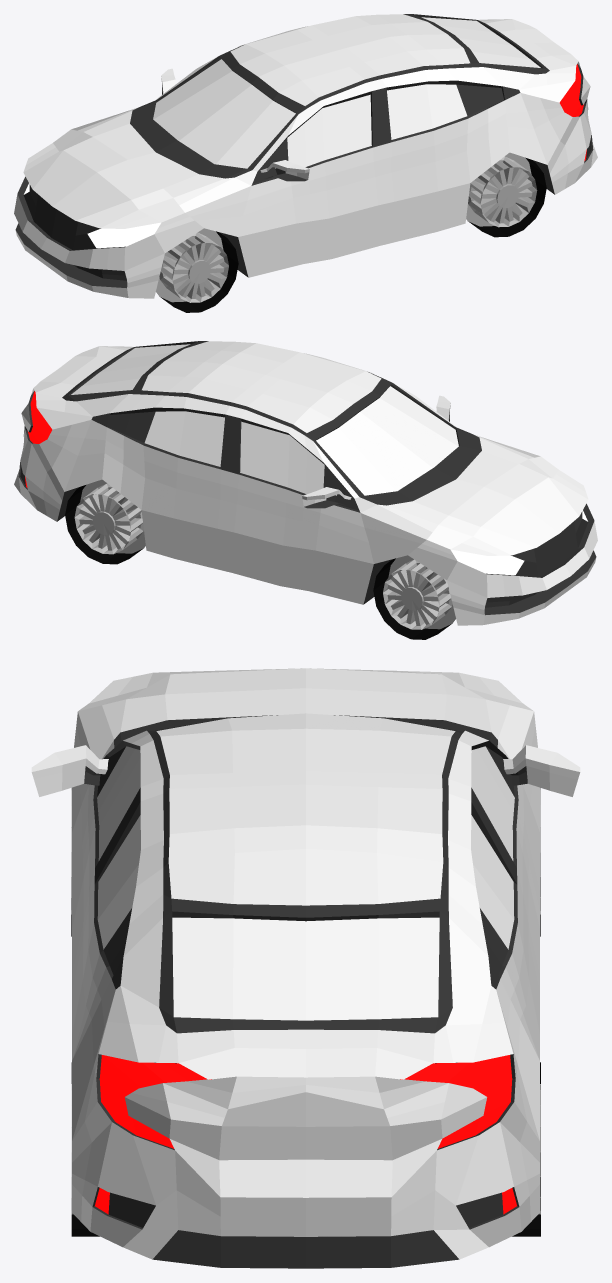
Rendered from honda_civic.glb.
3 views of the same model, one above another, from view 1: azimuth 30°, elevation 25°; view 2: azimuth 150°, elevation 25°; view 3: azimuth 270°, elevation 25° (orthographic). The views are drawn at different scales.
Visible parts, largest first — view 1: Car, Wheel, Wheel.001; view 2: Car, Wheel, Wheel.001; view 3: Car, Wheel.001.
Boxes of the visible parts, left/top/right/bottom form: Car: left=14, top=14, right=597, bottom=298; Wheel: left=156, top=228, right=238, bottom=312; Wheel.001: left=466, top=152, right=546, bottom=237; Car: left=14, top=341, right=597, bottom=625; Wheel: left=373, top=555, right=455, bottom=639; Wheel.001: left=65, top=479, right=145, bottom=564; Car: left=31, top=668, right=580, bottom=1268; Wheel.001: left=71, top=1062, right=540, bottom=1236.
Size of the model in its own units: 4.63 by 1.45 by 2.09.
